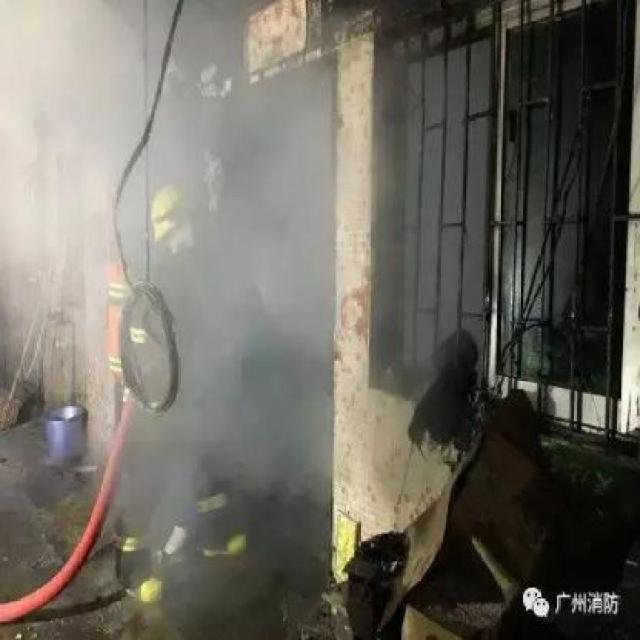Smoke: (174, 92, 334, 508), (0, 0, 140, 312)
